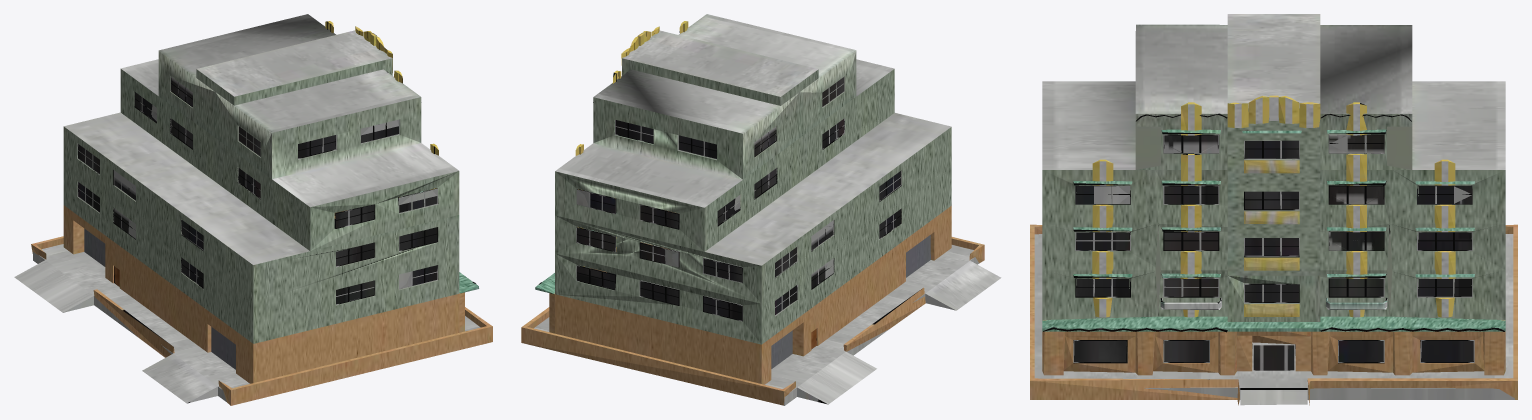
The model's file is green_apartment_lod1.glb.
The picture shows the model from 3 angles, left to right: view 1: azimuth 30°, elevation 25°; view 2: azimuth 150°, elevation 25°; view 3: azimuth 270°, elevation 25°; orthographic projection. The views are drawn at different scales.
Visible parts, largest first — view 1: green_apartment; view 2: green_apartment; view 3: green_apartment.
Part boxes in pixels (x1=…): green_apartment: x1=14, y1=14, x2=492, y2=405; green_apartment: x1=521, y1=14, x2=1001, y2=405; green_apartment: x1=1030, y1=14, x2=1517, y2=405.
Size of the model in its own units: 19.19 by 14.47 by 21.93.
Materials: 1 (1 with a texture image).
